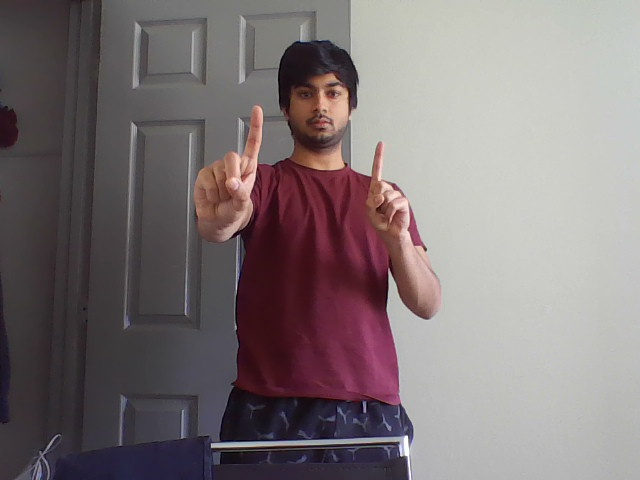one: (189, 97, 266, 239), (363, 136, 413, 236)
